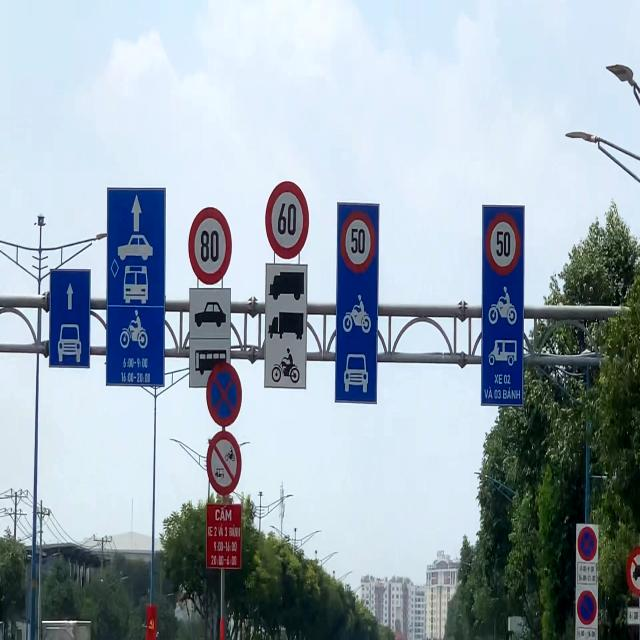P.127: (265, 180, 310, 260), (188, 207, 232, 285), (340, 211, 376, 273), (486, 212, 520, 276)
P.130: (206, 362, 242, 427), (577, 526, 597, 561)
P.131a: (577, 590, 597, 625)
